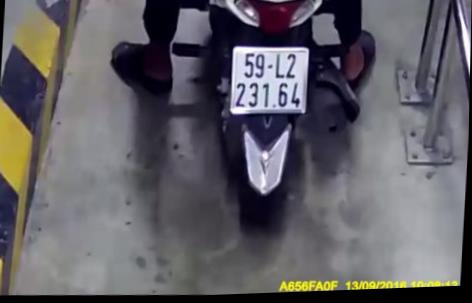LP: (229, 45, 312, 119)
